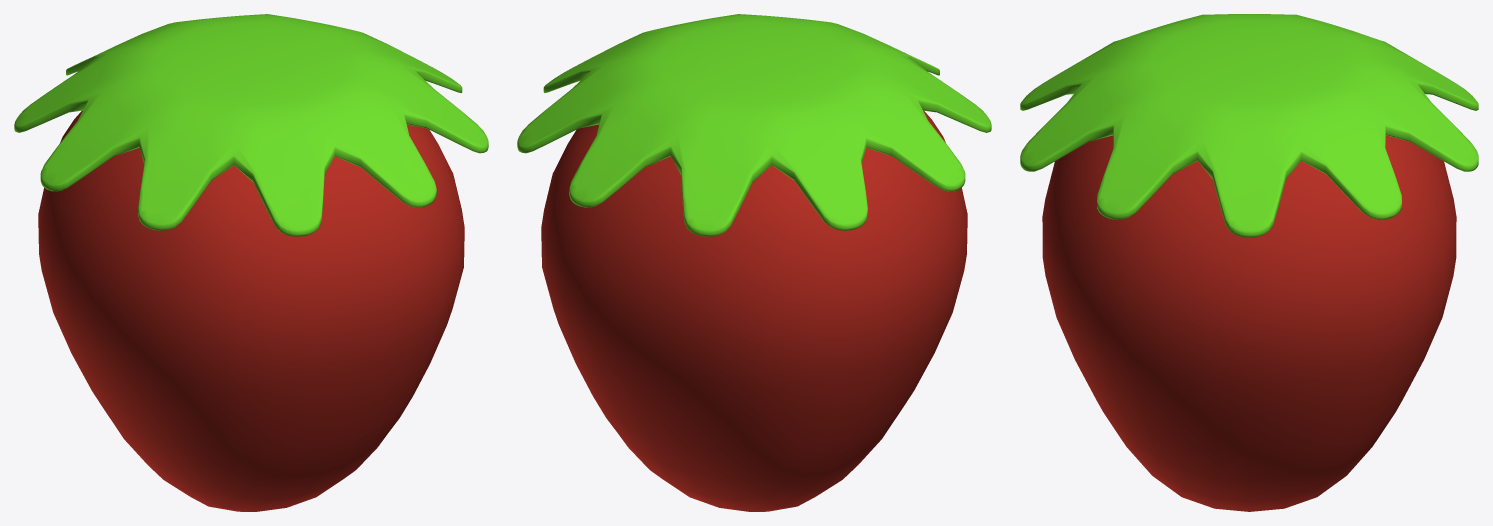
File: strawberry.glb
3 views of the same model, side by side, from view 1: azimuth 30°, elevation 25°; view 2: azimuth 150°, elevation 25°; view 3: azimuth 270°, elevation 25° (orthographic).
Parts seen in each view (by area): view 1: Strawberry; view 2: Strawberry; view 3: Strawberry.
Boxes of the visible parts, left/top/right/bottom form: Strawberry: left=14, top=14, right=488, bottom=511; Strawberry: left=517, top=14, right=991, bottom=511; Strawberry: left=1020, top=14, right=1478, bottom=511.
Bounding box in the file's own units: 2.14 × 2.17 × 2.05.
